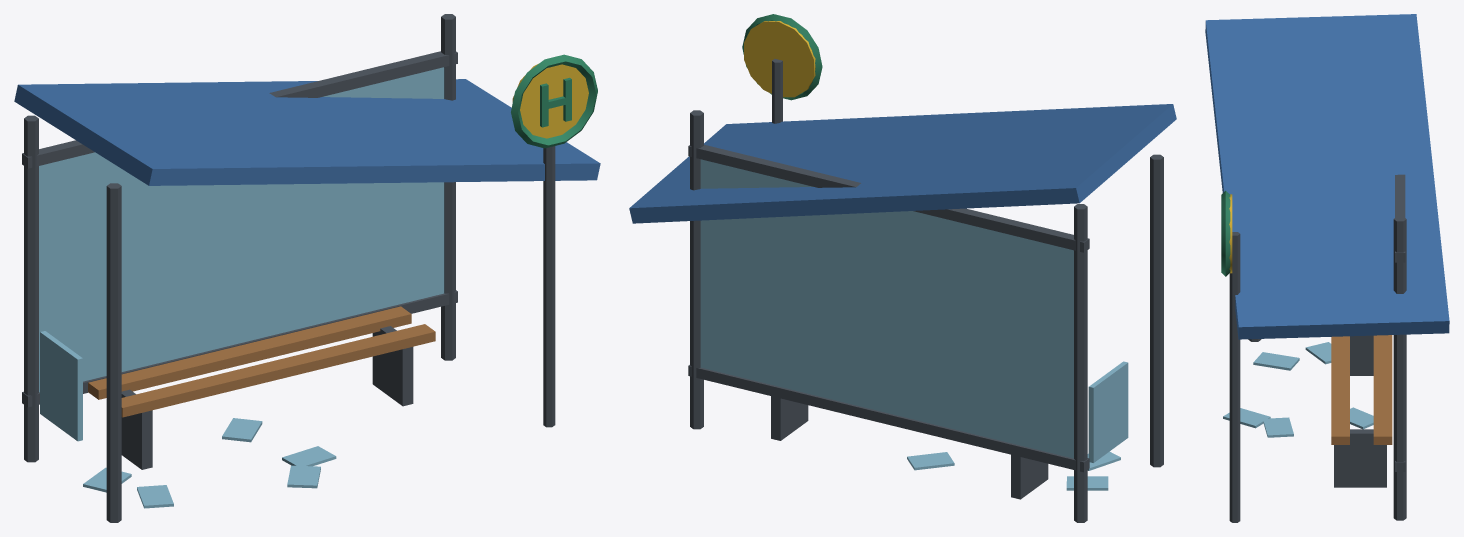
File: busstop_broken.gltf
The picture shows the model from 3 angles, left to right: view 1: azimuth 30°, elevation 25°; view 2: azimuth 150°, elevation 25°; view 3: azimuth 270°, elevation 25°; orthographic projection. The views are drawn at different scales.
Visible parts, largest first — view 1: busstop_broken; view 2: busstop_broken; view 3: busstop_broken.
Part boxes in pixels (<box>): busstop_broken: <box>14,14,600,522</box>; busstop_broken: <box>629,14,1176,522</box>; busstop_broken: <box>1205,14,1449,522</box>.
Bounding box in the file's own units: 3.72 × 2.73 × 1.85.
